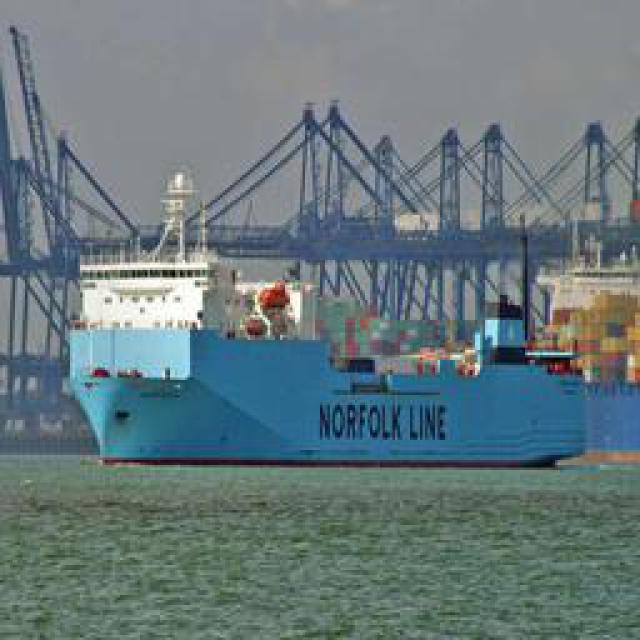Ship: (51, 79, 619, 484)
